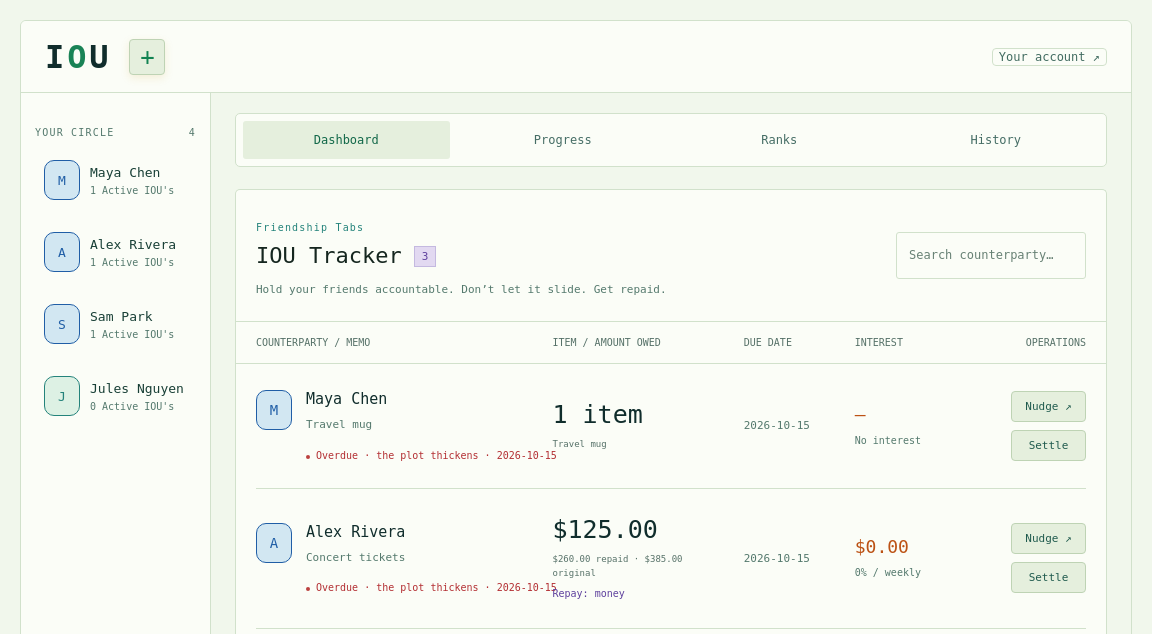
records a preview payment and updates Progress and History together
Click the button "Progress" at (563, 140), box left=460, top=121, right=666, bottom=159
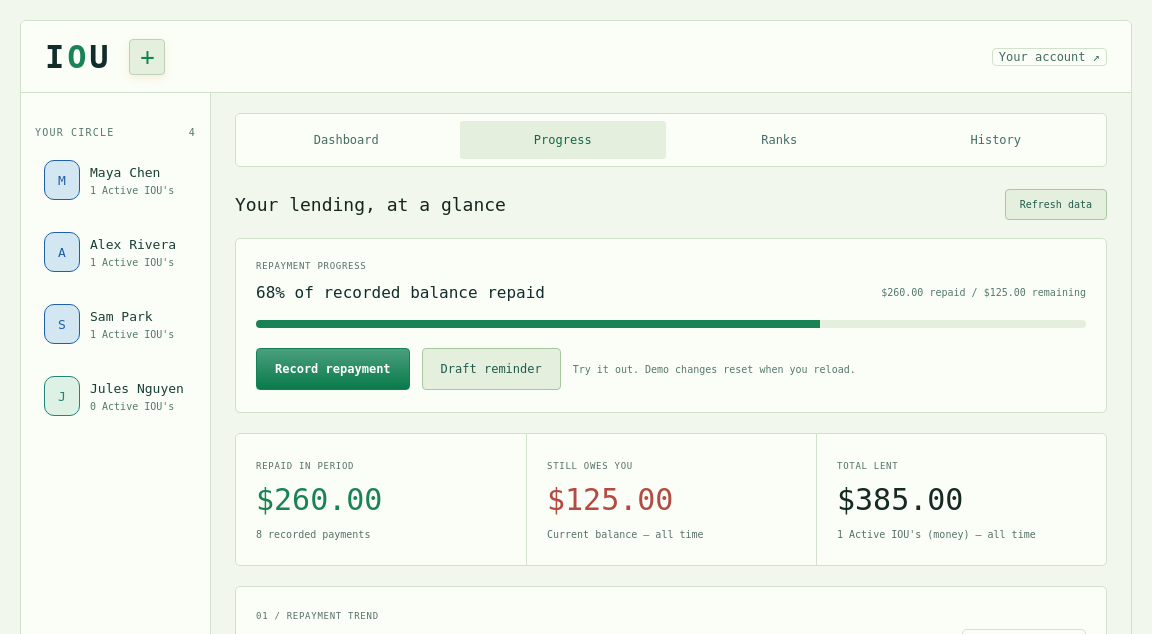
Expected: the text "68% of recorded balance repaid" is shown, left=256, top=283, right=545, bottom=302
Click the button "Record repayment" at (333, 369), box left=256, top=348, right=410, bottom=390
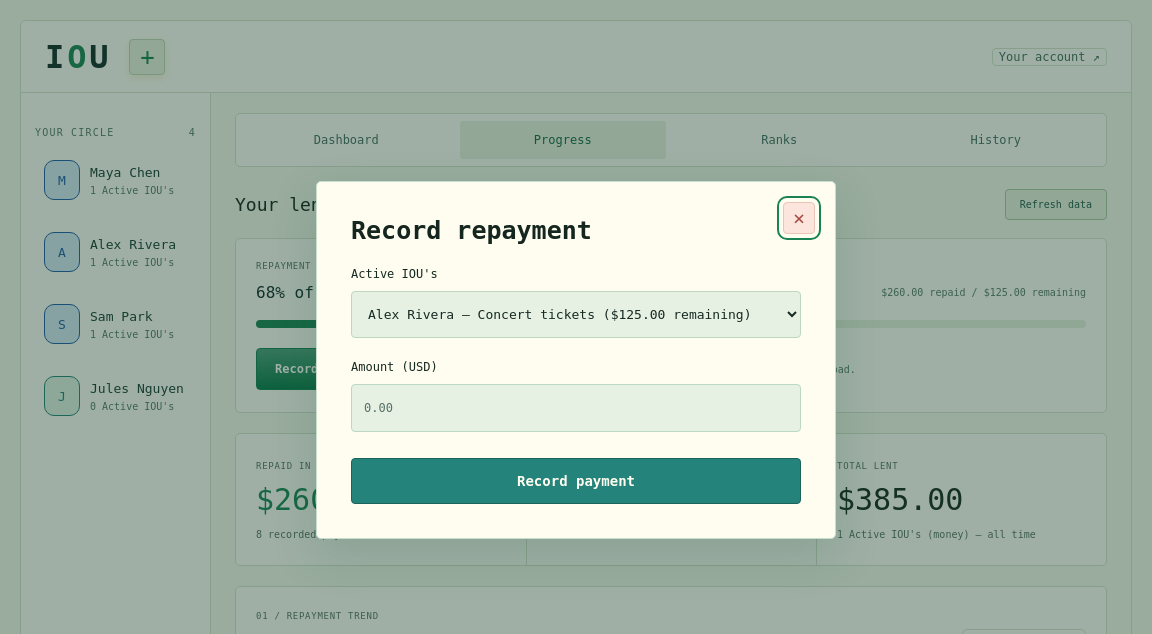
Type "25.00" into the field labelled "Amount (USD)" at (576, 408), box left=351, top=384, right=801, bottom=432
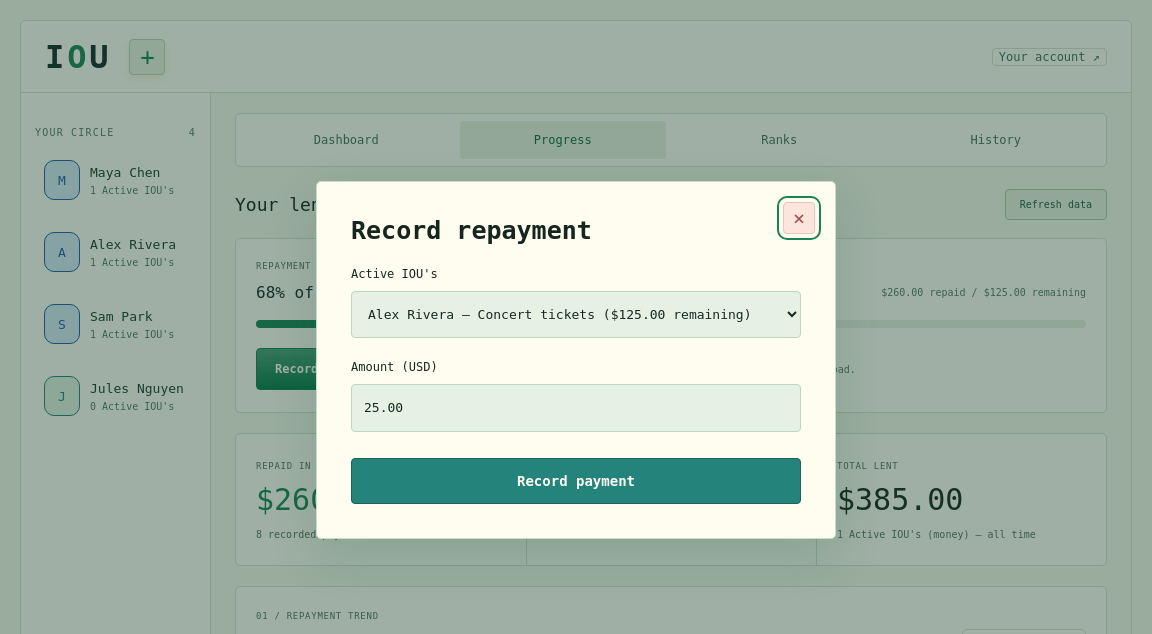
Click the button "Record payment" at (576, 481), box left=351, top=458, right=801, bottom=504
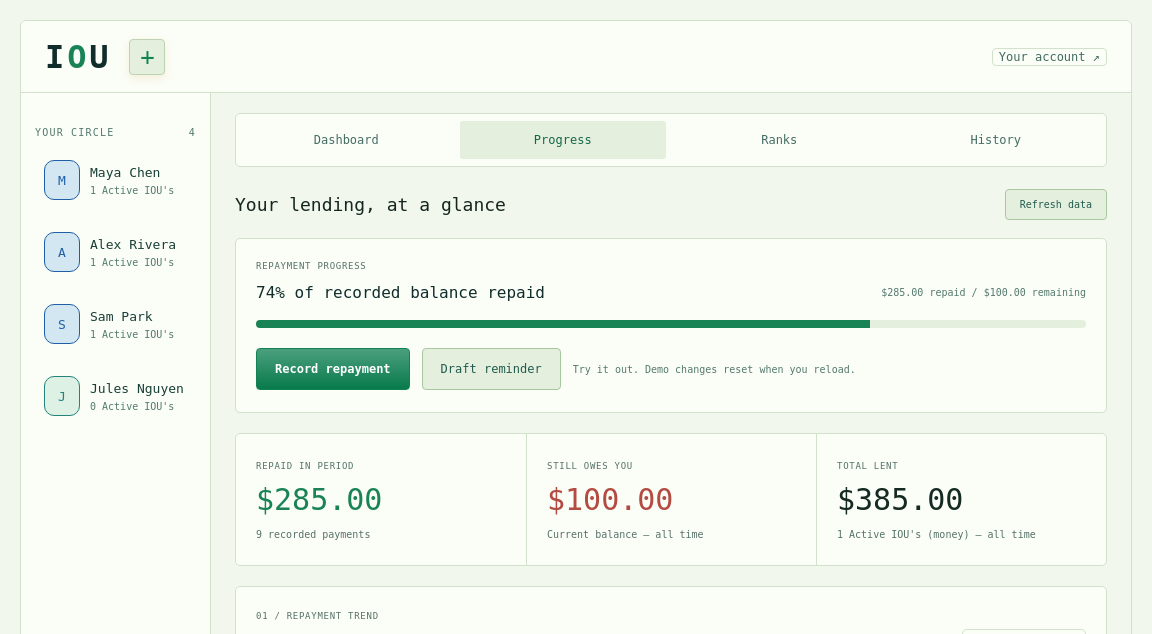
Expected: the text "74% of recorded balance repaid" is shown, left=256, top=283, right=545, bottom=302
Click the button "History" at (996, 140), box left=892, top=121, right=1099, bottom=159
(page scrolled)
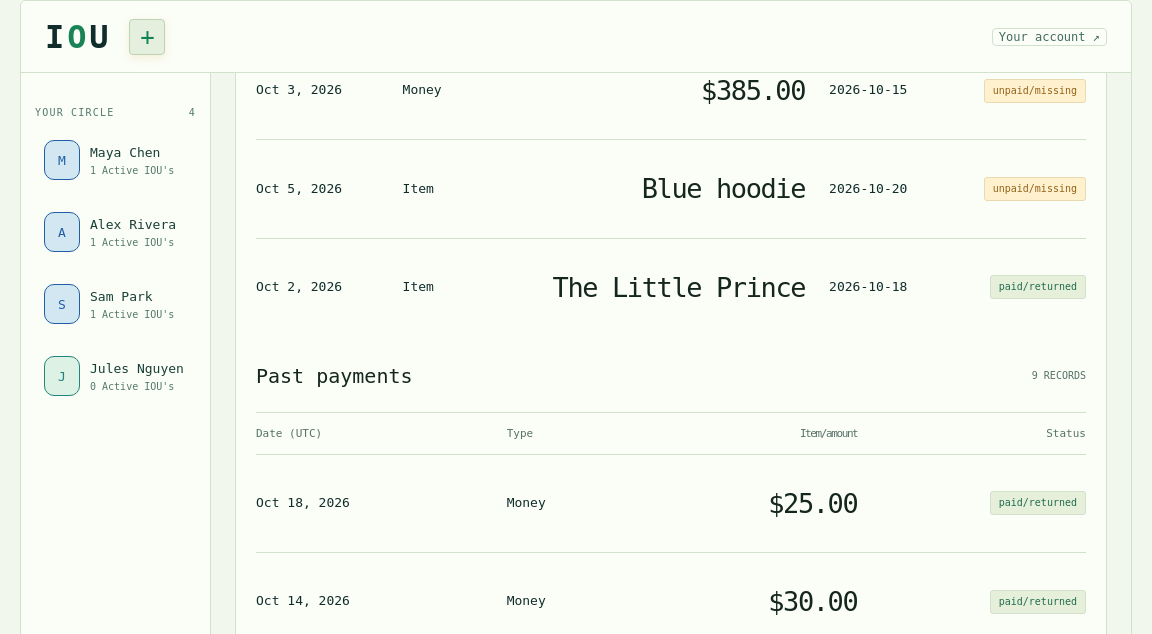
Expected: the text "9 RECORDS" is shown, left=1032, top=370, right=1086, bottom=381
